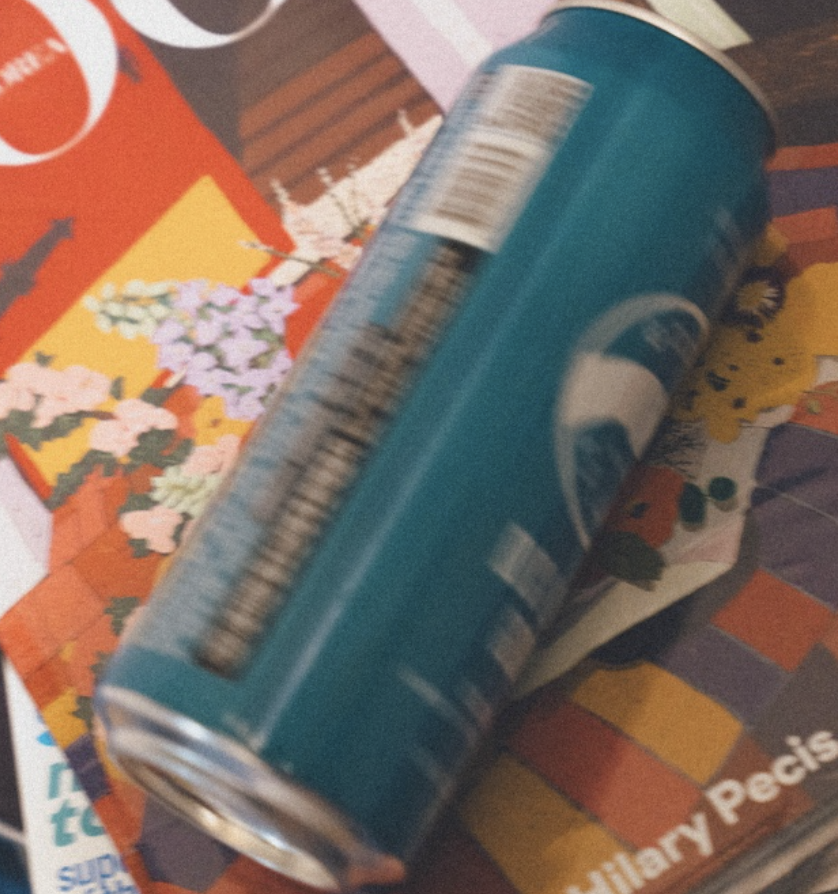beer-can: (91, 2, 775, 890)
